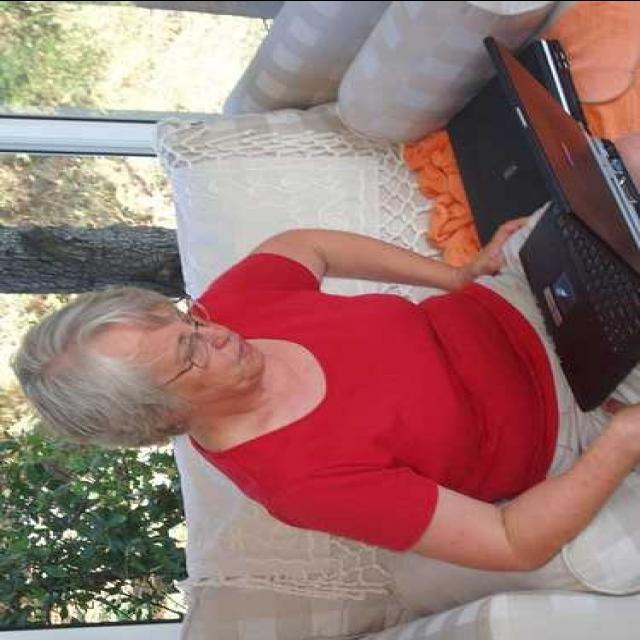laptop: (479, 34, 640, 372)
